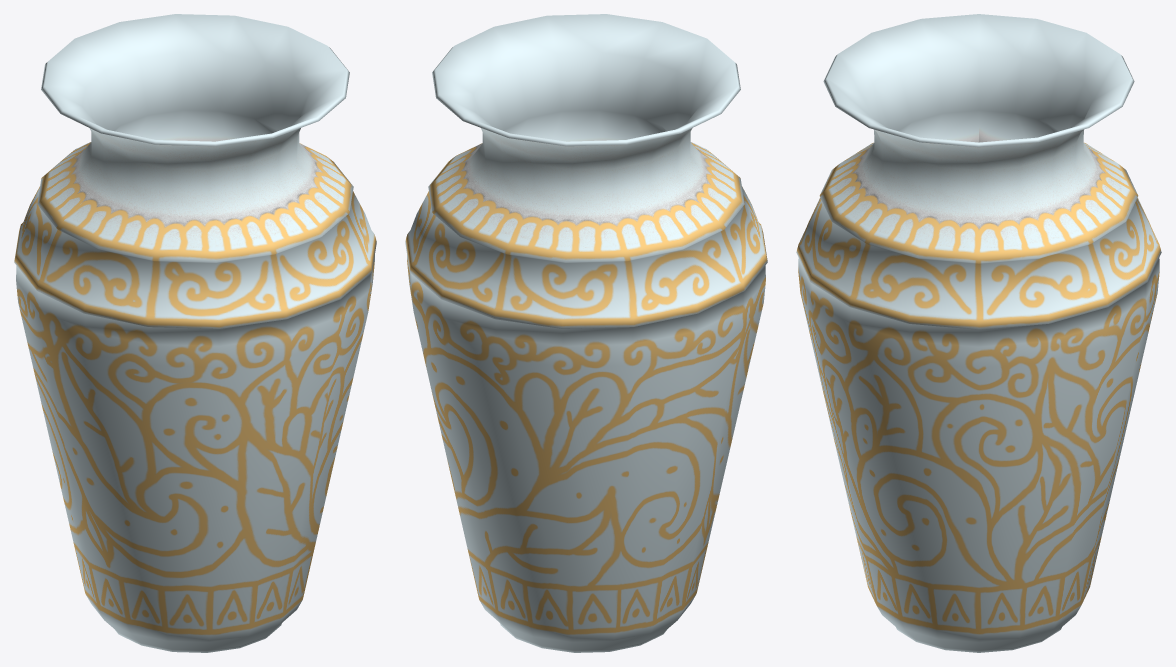
The model's file is gucy2.fbx.
3 renders of one model, left to right at view 1: azimuth 30°, elevation 25°; view 2: azimuth 150°, elevation 25°; view 3: azimuth 270°, elevation 25°, orthographic.
Parts seen in each view (by area): view 1: Circle.001; view 2: Circle.001; view 3: Circle.001.
Part boxes in pixels (left/top/right/bottom): Circle.001: left=14, top=14, right=376, bottom=652; Circle.001: left=405, top=14, right=767, bottom=652; Circle.001: left=796, top=14, right=1161, bottom=652.
Bounding box in the file's own units: 277 × 451 × 277.
